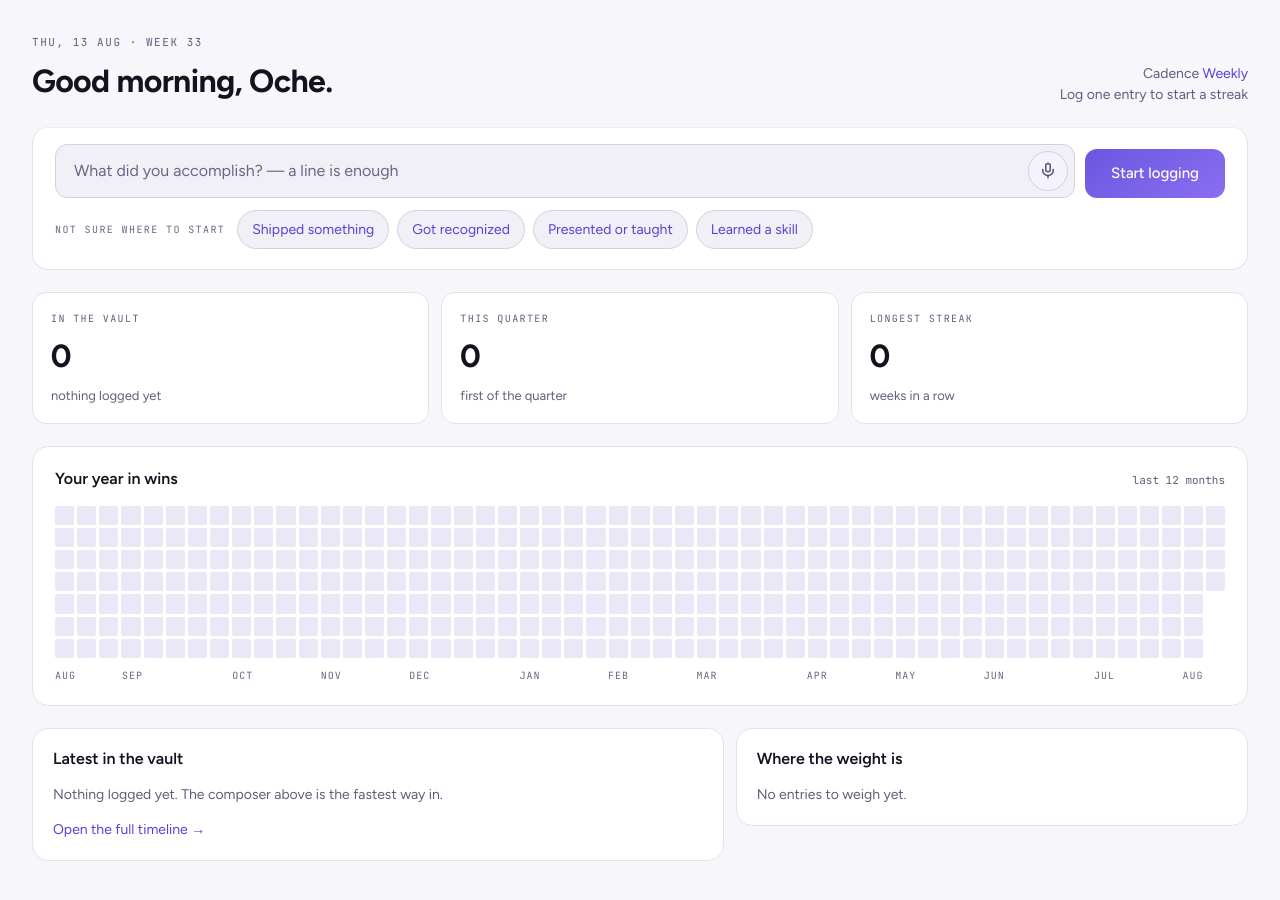
it: Home navigation › seeds the composer from a prompt chip
The image size is (1280, 900).
Click the button "Shipped something" at (313, 229), box [237,210,389,248]
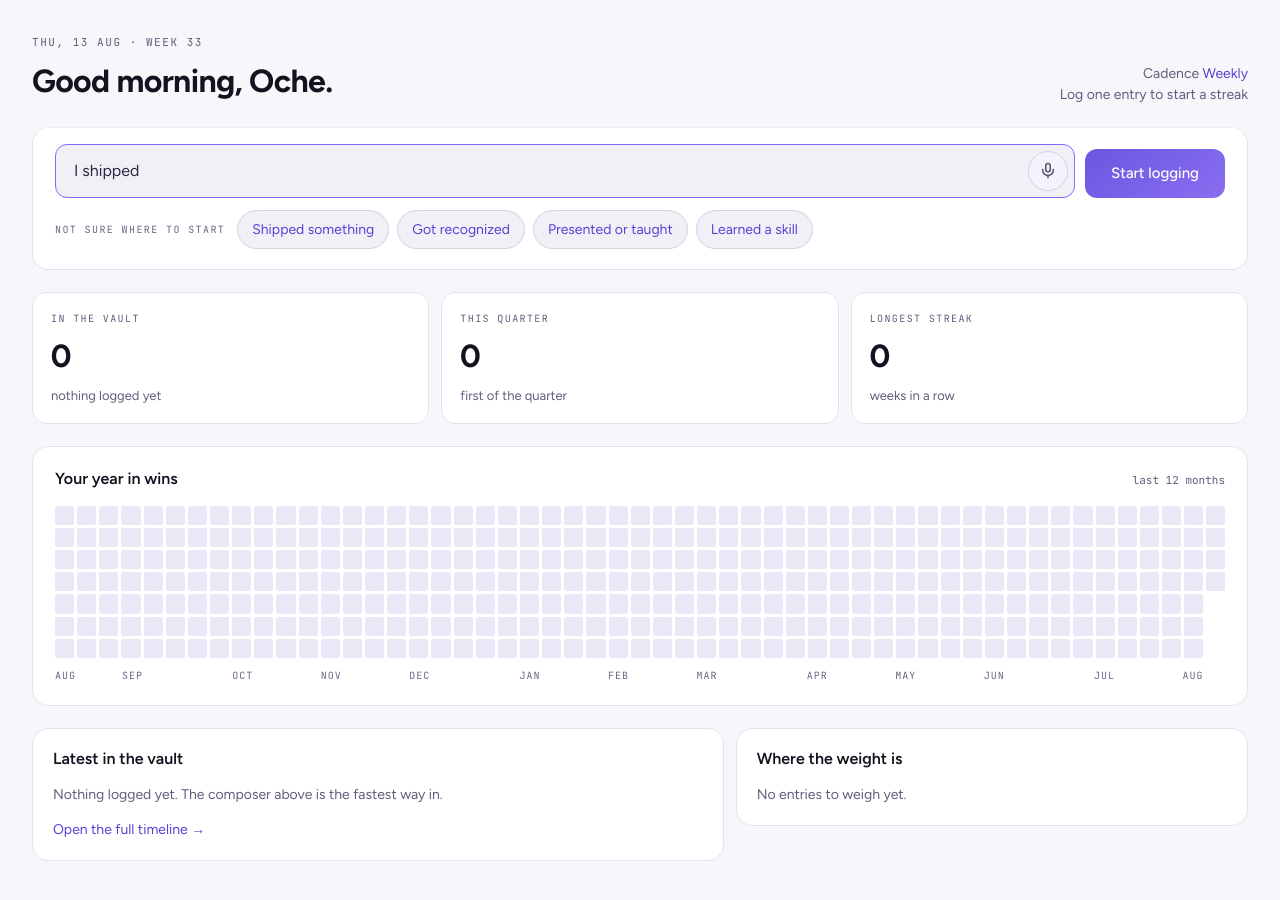
Expected: the text box named "What did you accomplish" holds "I shipped ", [74,152,1020,190]
